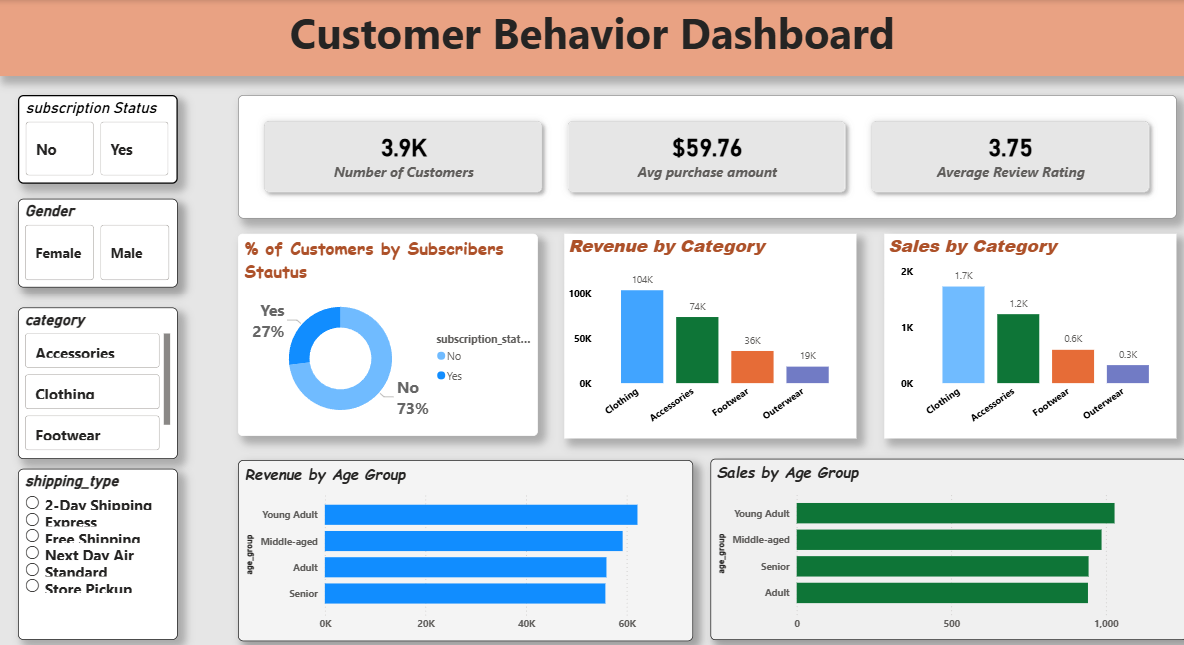

The dashboard page shown, as its layout file describes it:
{"tool":"powerbi","page":{"name":"Page 1","canvas":[1500,820],"ordinal":0},"visuals":[{"type":"cardVisual","fields":{"Data":["customers.Number of Customers","customers.Avg purchase amount","customers.Average Review Rating"]},"box":[302.9,119.9,1184.8,156.2],"z":0},{"type":"textbox","box":[0,0,1500.3,96.2],"z":2000},{"type":"donutChart","title":"% of Customers by  Subscribers Stautus","fields":{"Category":["customers.subscription_status"],"Y":["CountNonNull(customers.customer_id)"]},"box":[302.9,295,378.6,255.6],"z":4000},{"type":"clusteredColumnChart","title":"Revenue by Category","fields":{"Category":["customers.category"],"Y":["Sum(customers.purchase_amount)"]},"box":[714.7,295,369.2,258.7],"z":5000},{"type":"clusteredColumnChart","title":"Sales by Category","fields":{"Category":["customers.category"],"Y":["CountNonNull(customers.customer_id)"]},"box":[1118.5,295,369.2,258.7],"z":9000},{"type":"advancedSlicerVisual","fields":{"Values":["customers.subscription_status"]},"box":[25.2,119.9,201.9,112],"z":11000},{"type":"advancedSlicerVisual","fields":{"Values":["customers.gender"]},"box":[25.2,250.8,201.9,112],"z":12000},{"type":"advancedSlicerVisual","fields":{"Values":["customers.category"]},"box":[25.2,388.1,201.9,190.9],"z":13000},{"type":"listSlicer","fields":{"Values":["customers.shipping_type"]},"box":[25.2,591.6,201.9,216.1],"z":14000},{"type":"clusteredBarChart","title":"Sales by Age Group","fields":{"Category":["customers.age_group"],"Y":["CountNonNull(customers.customer_id)"]},"box":[899.2,579,601.1,228.8],"z":15000},{"type":"clusteredBarChart","title":"Revenue by Age Group","fields":{"Category":["customers.age_group"],"Y":["Sum(customers.purchase_amount)"]},"box":[302.9,580.6,574.3,228.8],"z":16000}]}

Visuals, with their boxes in screenshot pixels (x1, y1, x2, y2), scaled from the page's 1500x820 canvas onto the 1184x645 screenshot:
cardVisual - customers.Number of Customers x customers.Avg purchase amount: select_region(239, 94, 1174, 217)
textbox: select_region(0, 0, 1183, 76)
"% of Customers by  Subscribers Stautus" donutChart: select_region(239, 232, 538, 433)
"Revenue by Category" clusteredColumnChart: select_region(564, 232, 856, 436)
"Sales by Category" clusteredColumnChart: select_region(883, 232, 1174, 436)
advancedSlicerVisual - customers.subscription_status: select_region(20, 94, 179, 182)
advancedSlicerVisual - customers.gender: select_region(20, 197, 179, 285)
advancedSlicerVisual - customers.category: select_region(20, 305, 179, 455)
listSlicer - customers.shipping_type: select_region(20, 465, 179, 635)
"Sales by Age Group" clusteredBarChart: select_region(710, 455, 1183, 635)
"Revenue by Age Group" clusteredBarChart: select_region(239, 457, 692, 637)
